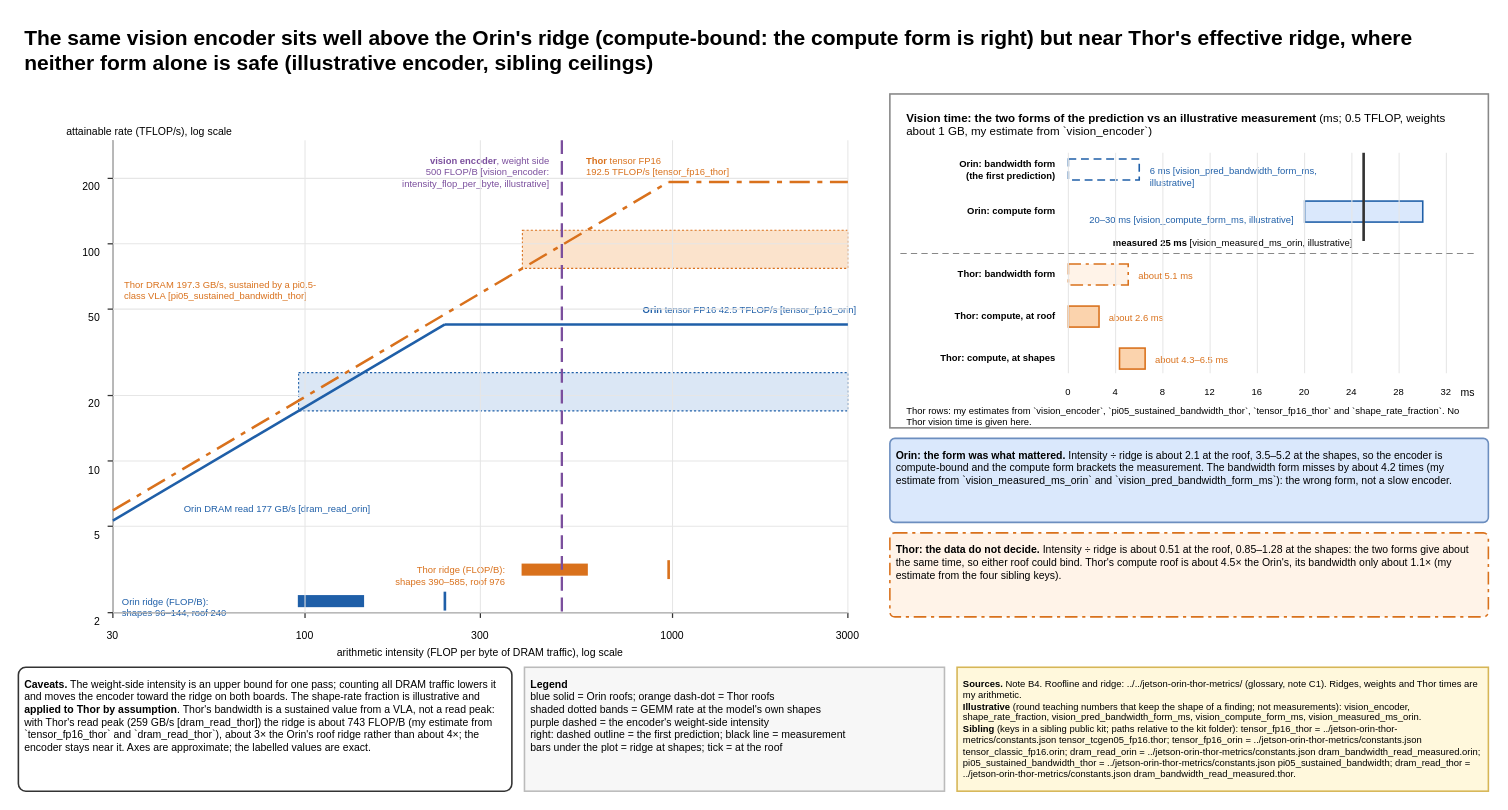
The diagram is 1508 pixels wide and 810 high, and some of its shapes have lost their labels. The shapes that lost their labels are listed below. From the top down, each one's centre as x and y in pixels, then its label:
(x=684, y=248): Thor at shapes 77–115.5 TFLOP/s (x 0.4–0.6)
(x=573, y=391): Orin at shapes 17–25.5 TFLOP/s [shape_rate_fraction, illustrative]
